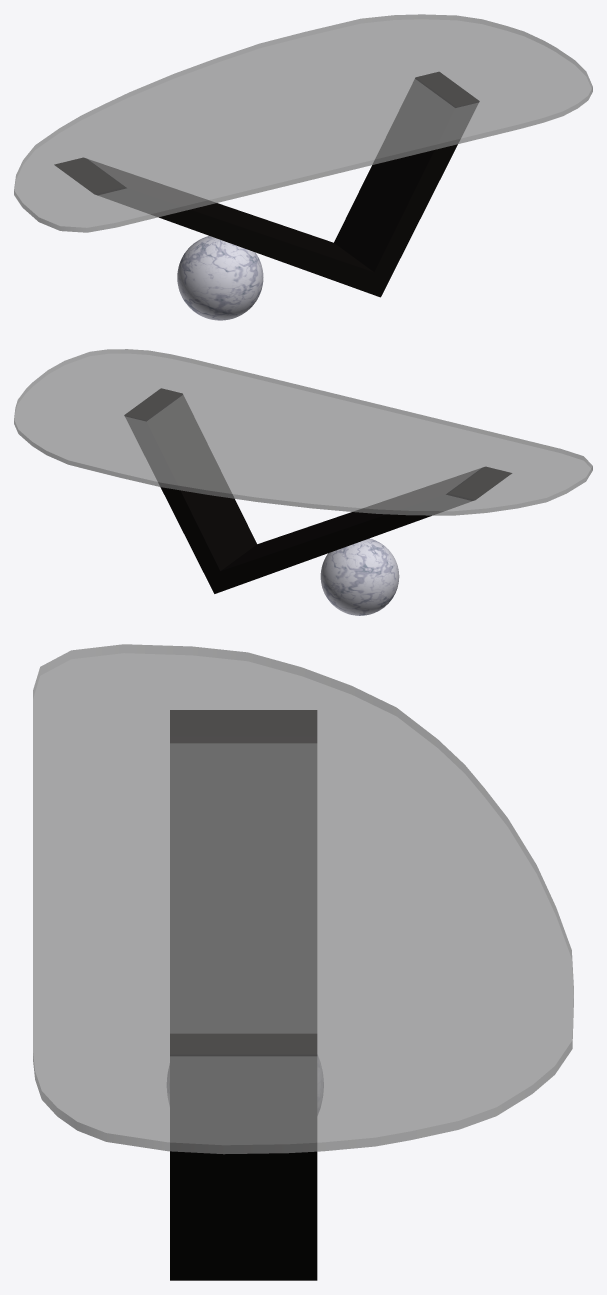
File: table12.obj
3 views of the same model, one above another, from view 1: azimuth 30°, elevation 25°; view 2: azimuth 150°, elevation 25°; view 3: azimuth 270°, elevation 25° (orthographic). The views are drawn at different scales.
Parts seen in each view (by area): view 1: Line07, Line15, Sphere02; view 2: Line07, Line15, Sphere02; view 3: Line07, Line15.
Part boxes in pixels (box(x1,y1,x2,y2)): Line07: box(14, 14, 592, 232); Line15: box(54, 72, 479, 297); Sphere02: box(177, 236, 263, 320); Line07: box(14, 349, 592, 515); Line15: box(124, 388, 511, 593); Sphere02: box(320, 538, 399, 615); Line07: box(33, 644, 573, 1154); Line15: box(170, 710, 317, 1280).
Size of the model in its own units: 241 by 72.02 by 110.
Materials: 3 (1 with a texture image).
